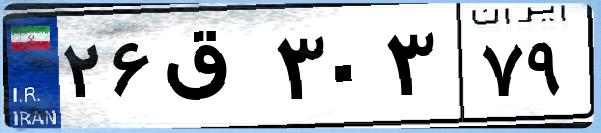0: (330, 28, 385, 110)
2: (57, 26, 110, 100)
3: (270, 28, 330, 110), (385, 28, 445, 110)
6: (110, 28, 158, 98)
7: (475, 38, 525, 113)
9: (525, 38, 570, 115)
ق: (158, 20, 270, 120)
